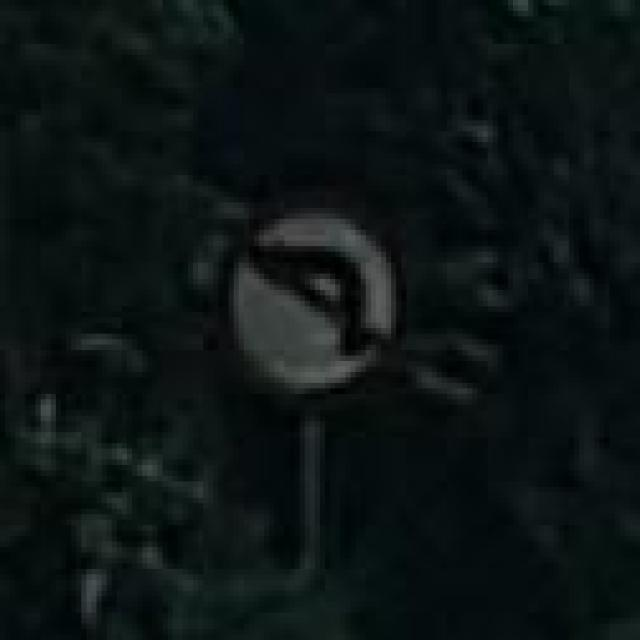traffic sign: (229, 214, 407, 411)
